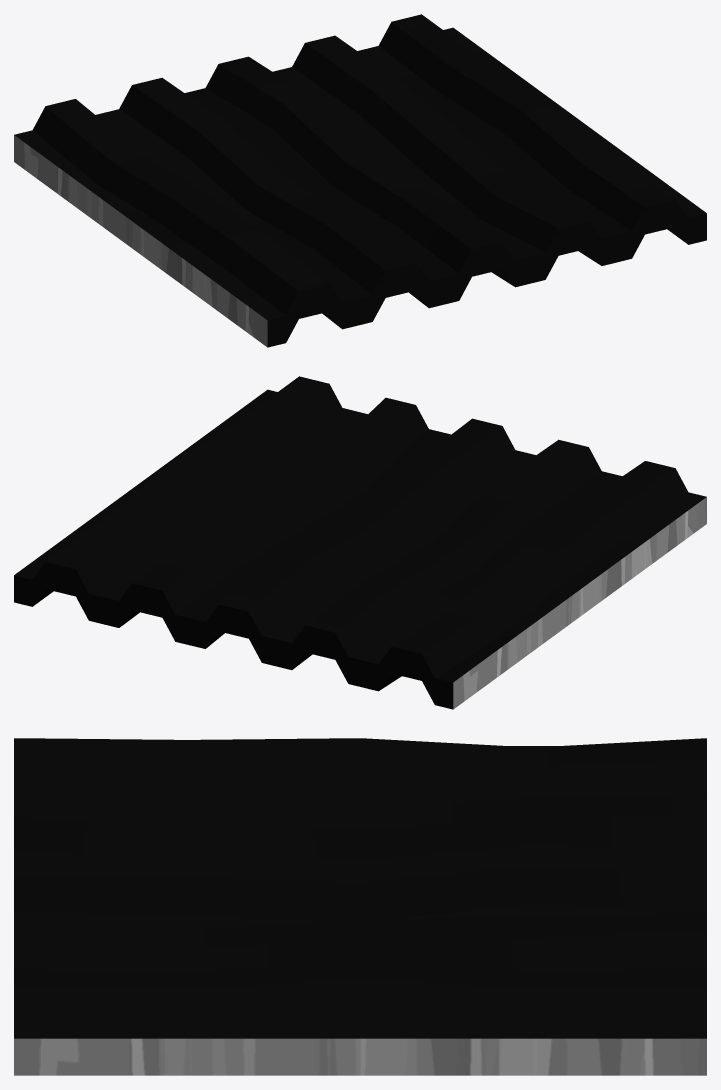
Rendered from obj_manmade_scraproof03.fbx.
3 views of the same model, one above another, from view 1: azimuth 30°, elevation 25°; view 2: azimuth 150°, elevation 25°; view 3: azimuth 270°, elevation 25° (orthographic). The views are drawn at different scales.
Visible parts, largest first — view 1: obj_manmade_scraproof03_lod0; view 2: obj_manmade_scraproof03_lod0; view 3: obj_manmade_scraproof03_lod0.
Boxes of the visible parts, <box> form: obj_manmade_scraproof03_lod0: <box>14,14,706,347</box>; obj_manmade_scraproof03_lod0: <box>14,376,706,709</box>; obj_manmade_scraproof03_lod0: <box>14,738,706,1075</box>.
Bounding box in the file's own units: 8 × 1.21 × 8.
